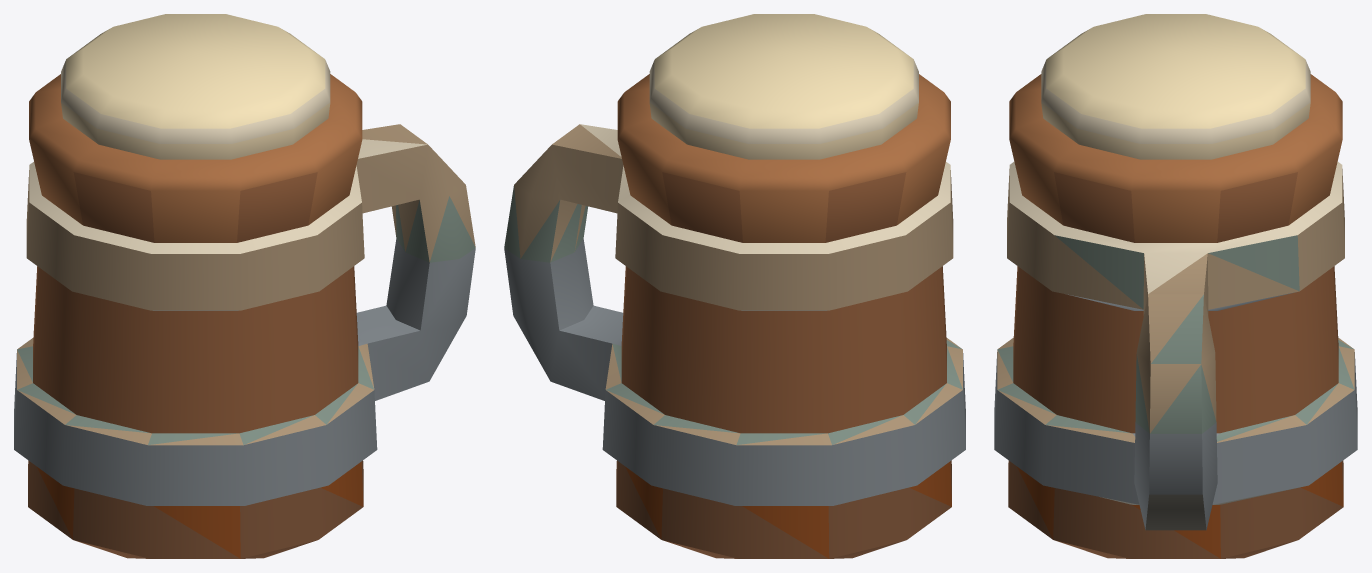
The model's file is itch_kaykit_adventurers_mug_full.glb.
3 views of the same model, side by side, from view 1: azimuth 30°, elevation 25°; view 2: azimuth 150°, elevation 25°; view 3: azimuth 270°, elevation 25° (orthographic).
Visible parts, largest first — view 1: mug_full; view 2: mug_full; view 3: mug_full.
Boxes of the visible parts, x1=… form: mug_full: x1=14, y1=14, x2=475, y2=558; mug_full: x1=504, y1=14, x2=965, y2=558; mug_full: x1=994, y1=14, x2=1357, y2=558.
Size of the model in its own units: 0.42 by 0.4311 by 0.3113.
